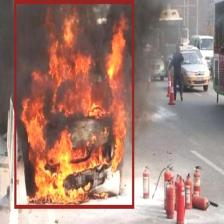fire: (14, 0, 134, 208)
